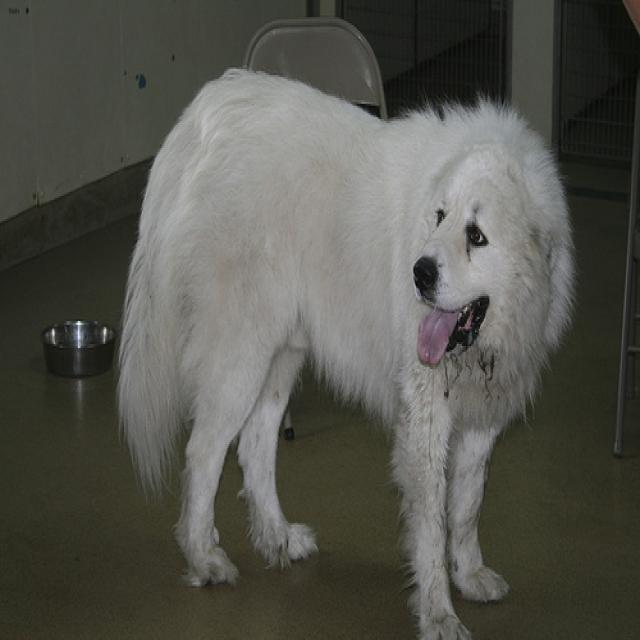dog-great_pyrenees: (109, 60, 579, 636)
